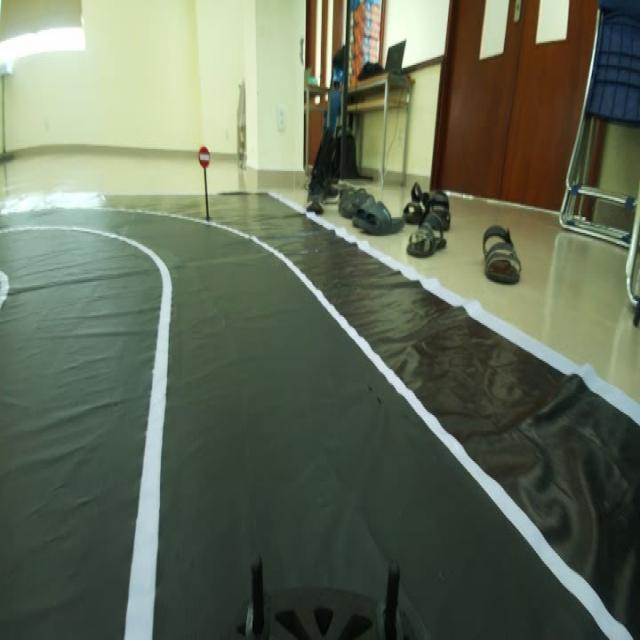no_entry: (198, 135, 212, 172)
